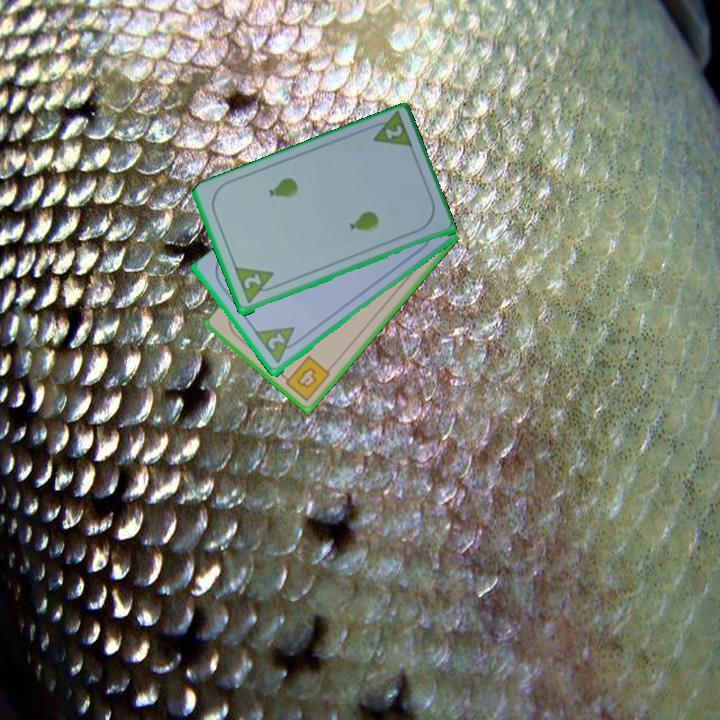2p: (231, 264, 281, 307), (264, 330, 288, 353), (381, 122, 405, 143)
4b: (278, 352, 333, 404)
